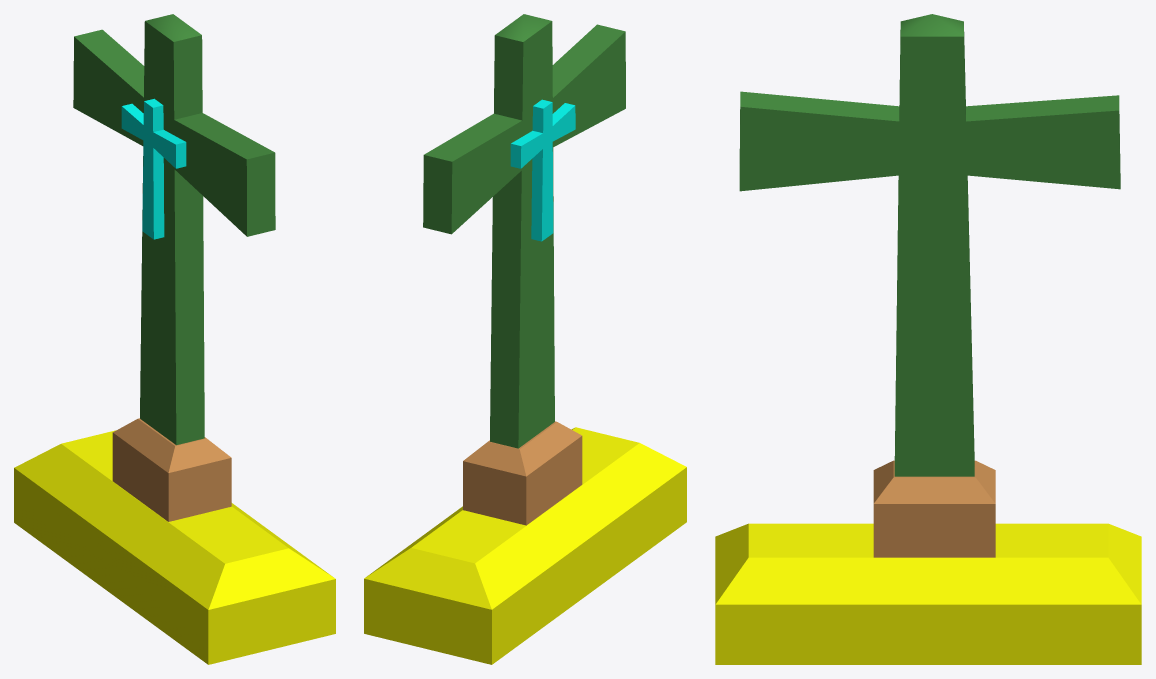
File: Lapida_4.fbx
3 renders of one model, left to right at view 1: azimuth 30°, elevation 25°; view 2: azimuth 150°, elevation 25°; view 3: azimuth 270°, elevation 25°, orthographic. The views are drawn at different scales.
Parts seen in each view (by area): view 1: Tumba_cruz; view 2: Tumba_cruz; view 3: Tumba_cruz.
Part boxes in pixels (box(x1,y1,x2,y2)): Tumba_cruz: box(14, 14, 335, 664); Tumba_cruz: box(364, 14, 686, 664); Tumba_cruz: box(715, 14, 1141, 664).
Bounding box in the file's own units: 1.22 × 5.14 × 3.22.
